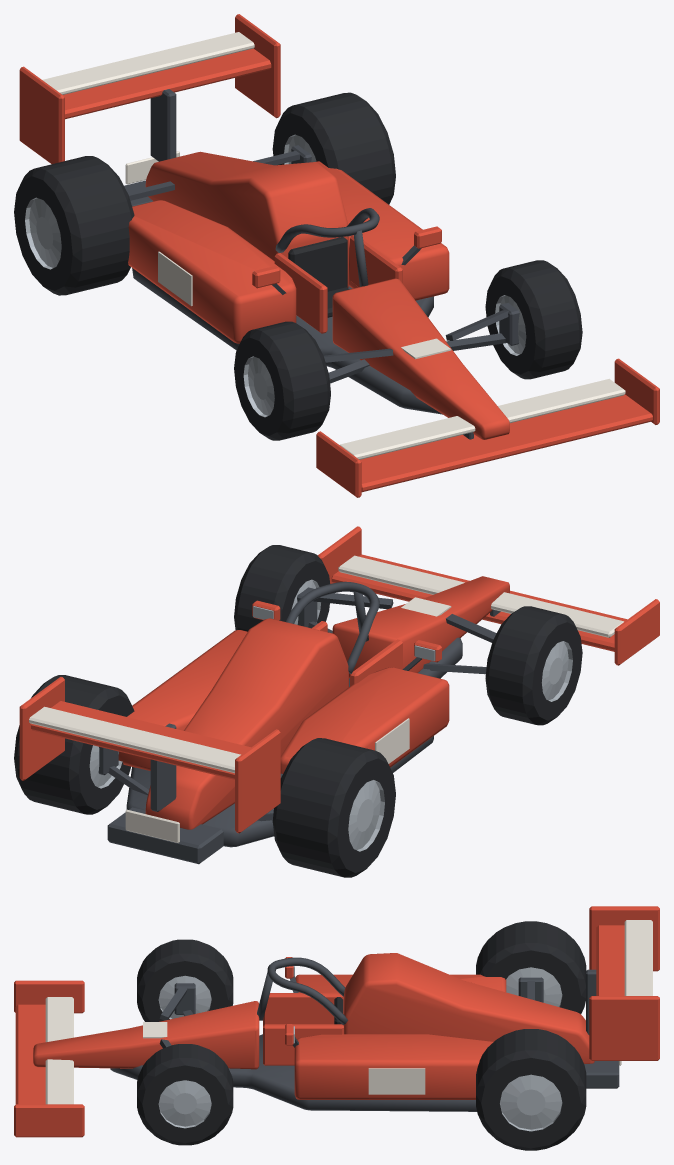
File: open-wheel-racer.glb
The picture shows the model from 3 angles, top to bottom: view 1: azimuth 30°, elevation 25°; view 2: azimuth 150°, elevation 25°; view 3: azimuth 270°, elevation 25°; orthographic projection. The views are drawn at different scales.
Visible parts, largest first — view 1: Wheel_RL, EngineCover, Sidepod_L, Nose, Wheel_FL, FrontWing_Main, Wheel_FR, Wheel_RR, Sidepod_R, RearWing_Main, FrontWing_Flap, RearWing_Flap (+11 smaller); view 2: EngineCover, Wheel_RL, Wheel_FL, Sidepod_L, Wheel_RR, Nose, Wheel_FR, Sidepod_R, RearWing_Flap, FrontWing_Flap, RearWing_Endplate_L, RearWing_Main (+14 smaller); view 3: EngineCover, Wheel_RR, Sidepod_R, Wheel_FR, Nose, Wheel_RL, Wheel_FL, RearWing_Endplate_R, Chassis, FrontWing_Main, FrontWing_Flap, FrontWing_Endplate_R (+14 smaller).
Part boxes in pixels (x1,y1,x2,y2): Wheel_RL: (14, 156, 134, 295); EngineCover: (145, 151, 348, 287); Sidepod_L: (128, 200, 296, 343); Nose: (332, 278, 509, 439); Wheel_FL: (234, 321, 330, 440); FrontWing_Main: (360, 394, 652, 492); Wheel_FR: (485, 260, 582, 379); Wheel_RR: (272, 92, 395, 204); Sidepod_R: (316, 161, 449, 300); RearWing_Main: (63, 48, 271, 119); FrontWing_Flap: (340, 378, 625, 459); RearWing_Flap: (42, 32, 254, 94); EngineCover: (145, 618, 348, 829); Wheel_RL: (272, 738, 395, 877); Wheel_FL: (485, 606, 582, 725); Sidepod_L: (280, 667, 449, 773); Wheel_RR: (14, 675, 134, 814); Nose: (332, 576, 509, 678); Wheel_FR: (234, 545, 330, 631); Sidepod_R: (118, 630, 247, 770); RearWing_Flap: (29, 706, 240, 773); FrontWing_Flap: (338, 555, 623, 637); RearWing_Endplate_L: (235, 729, 280, 833); RearWing_Main: (31, 701, 250, 779); EngineCover: (344, 953, 594, 1063); Wheel_RR: (476, 1029, 586, 1150); Sidepod_R: (294, 1034, 493, 1099); Wheel_FR: (137, 1044, 233, 1145); Nose: (33, 1001, 259, 1069); Wheel_RL: (476, 921, 586, 1013); Wheel_FL: (137, 939, 233, 1021); RearWing_Endplate_R: (589, 996, 659, 1060); Chassis: (110, 1034, 476, 1111); FrontWing_Main: (15, 1004, 45, 1104); FrontWing_Flap: (45, 997, 73, 1104); FrontWing_Endplate_R: (14, 1104, 84, 1137).
Bounding box in the file's own units: 9 × 4.2 × 18.3.
